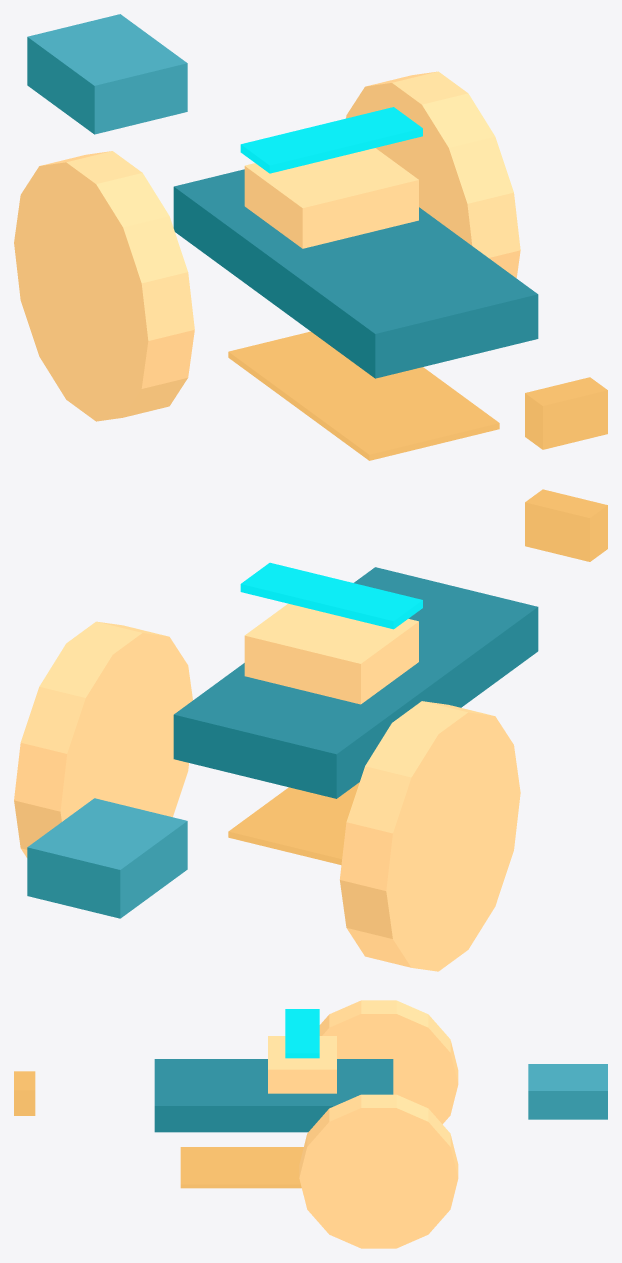
File: bike_standard.glb
3 renders of one model, top to bottom at view 1: azimuth 30°, elevation 25°; view 2: azimuth 150°, elevation 25°; view 3: azimuth 270°, elevation 25°, orthographic. The views are drawn at different scales.
Parts seen in each view (by area): view 1: wheel_l, chassis, trail_underglow, wheel_r, body_nose, canopy_wheel, glow_strip_roof, emitter; view 2: wheel_l, chassis, wheel_r, body_nose, canopy_wheel, trail_underglow, glow_strip_roof, emitter; view 3: wheel_r, chassis, wheel_l, trail_underglow, body_nose, canopy_wheel, glow_strip_roof, emitter.
Part boxes in pixels (left/top/right/bottom): wheel_l: left=14, top=151, right=194, bottom=421; chassis: left=173, top=169, right=538, bottom=378; trail_underglow: left=228, top=331, right=499, bottom=460; wheel_r: left=346, top=71, right=520, bottom=278; body_nose: left=27, top=14, right=187, bottom=134; canopy_wheel: left=244, top=148, right=418, bottom=248; glow_strip_roof: left=240, top=107, right=422, bottom=173; emitter: left=525, top=377, right=607, bottom=449; wheel_l: left=339, top=701, right=520, bottom=971; chassis: left=173, top=567, right=538, bottom=798; wheel_r: left=14, top=621, right=192, bottom=857; body_nose: left=27, top=798, right=187, bottom=918; canopy_wheel: left=244, top=603, right=418, bottom=704; trail_underglow: left=228, top=782, right=359, bottom=864; glow_strip_roof: left=240, top=562, right=422, bottom=629; emitter: left=525, top=489, right=607, bottom=561; wheel_r: left=299, top=1094, right=458, bottom=1248; chassis: left=154, top=1059, right=393, bottom=1132; wheel_l: left=319, top=1000, right=458, bottom=1124; trail_underglow: left=180, top=1147, right=303, bottom=1188; body_nose: left=528, top=1064, right=607, bottom=1119; canopy_wheel: left=268, top=1036, right=336, bottom=1093; glow_strip_roof: left=285, top=1009, right=319, bottom=1058; emitter: left=14, top=1071, right=35, bottom=1115.
Bounding box in the file's own units: 0.48 × 0.3402 × 1.12.
